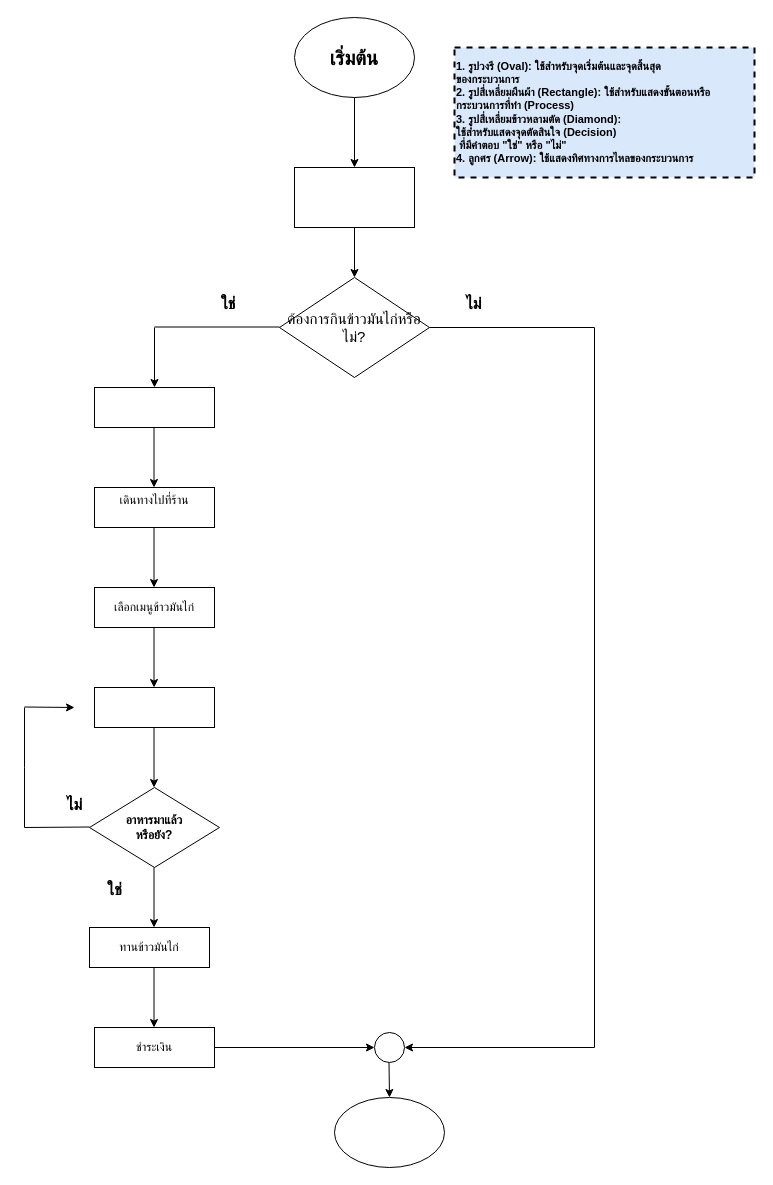
Image size: 773x1185. Some labels were removed from this diagram. The centre of each missing label's shape, as x and y in pixels:
"รออาหารเสิร์ฟ" goes at (x=154, y=707).
"รู้สึกหิว" goes at (x=354, y=197).
"สิ้นสุด" goes at (x=389, y=1132).
"เลือกร้านข้าวมันไก่" goes at (x=154, y=407).
